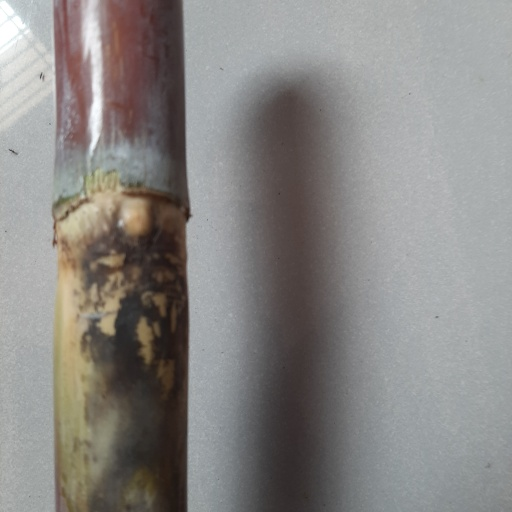Bud: (117, 198, 156, 239)
